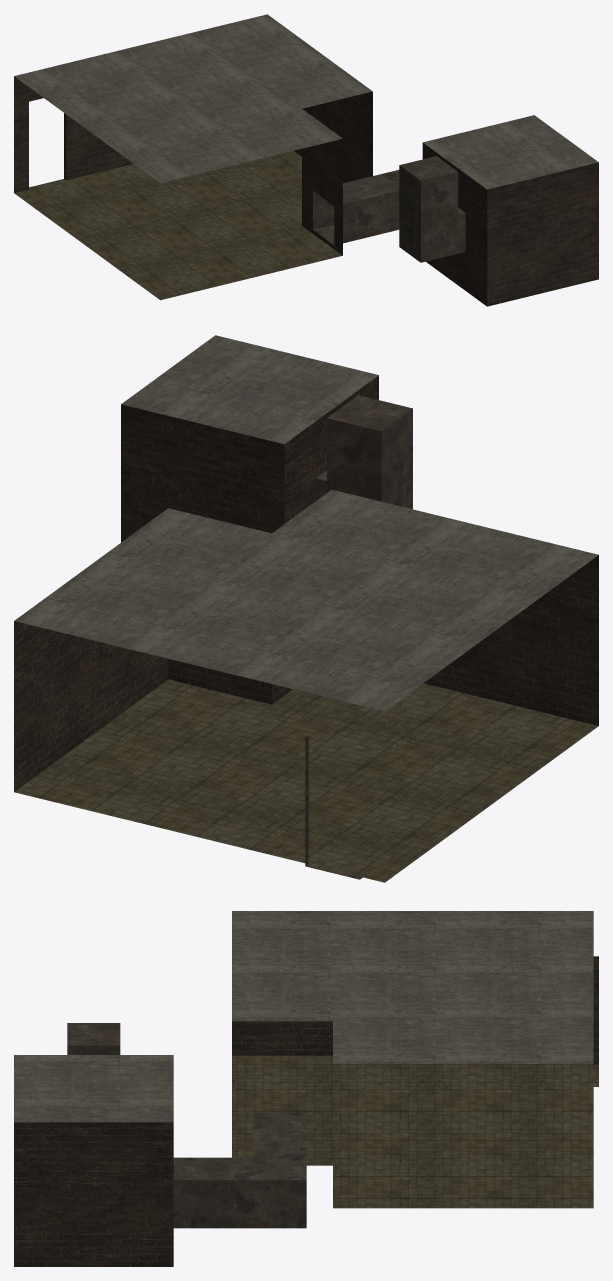
The model's file is electrical_room.glb.
3 views of the same model, one above another, from view 1: azimuth 30°, elevation 25°; view 2: azimuth 150°, elevation 25°; view 3: azimuth 270°, elevation 25° (orthographic). The views are drawn at different scales.
Visible parts, largest first — view 1: electrical_room-col; view 2: electrical_room-col; view 3: electrical_room-col.
Part boxes in pixels (x1=…): electrical_room-col: x1=14, y1=14, x2=598, y2=306; electrical_room-col: x1=14, y1=335, x2=598, y2=882; electrical_room-col: x1=14, y1=911, x2=598, y2=1266.
Size of the model in its own units: 9.4 by 3.1 by 11.
Materials: 4 (4 with a texture image).
